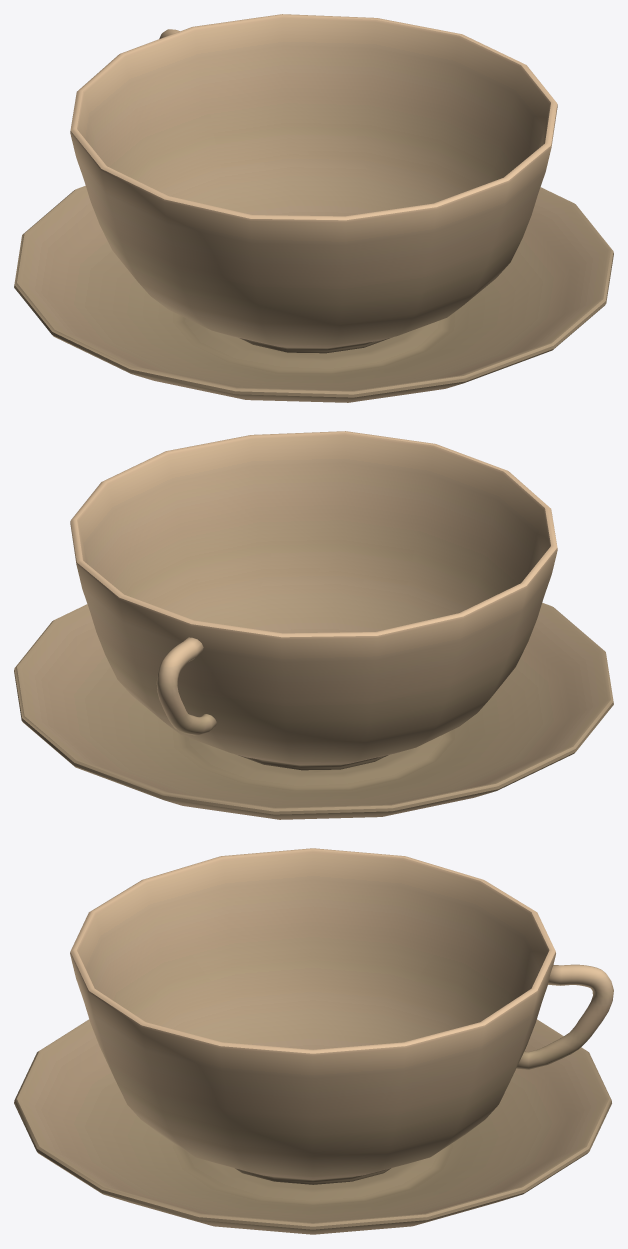
Rendered from CupofCoffee.glb.
3 views of the same model, one above another, from view 1: azimuth 30°, elevation 25°; view 2: azimuth 150°, elevation 25°; view 3: azimuth 270°, elevation 25° (orthographic).
Parts seen in each view (by area): view 1: Cup, Cup Dish; view 2: Cup, Cup Dish, Cup Holder; view 3: Cup, Cup Dish, Cup Holder.
Part boxes in pixels (<box>): Cup: <box>70,14,557,353</box>; Cup Dish: <box>14,186,613,402</box>; Cup: <box>70,431,557,770</box>; Cup Dish: <box>14,603,613,819</box>; Cup Holder: <box>156,637,216,735</box>; Cup: <box>70,848,555,1184</box>; Cup Dish: <box>14,1019,611,1234</box>; Cup Holder: <box>516,964,613,1069</box>.
Size of the model in its own units: 1.46 by 0.5704 by 1.46.
Materials: 1 (1 with a texture image).
